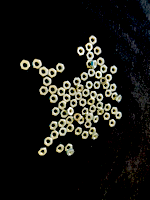nut: (19, 60, 30, 71), (55, 63, 65, 74), (32, 59, 42, 70), (38, 86, 49, 96), (37, 147, 48, 157), (38, 67, 49, 77), (42, 77, 52, 87), (49, 94, 59, 104), (51, 107, 60, 117), (49, 85, 58, 95), (43, 137, 53, 146), (77, 47, 86, 56), (80, 72, 89, 81), (63, 81, 72, 90), (79, 99, 88, 108), (59, 128, 68, 137), (56, 144, 65, 153), (48, 69, 57, 78), (86, 52, 95, 61), (85, 81, 94, 90), (64, 144, 73, 153), (57, 88, 66, 97), (62, 94, 71, 103), (58, 101, 67, 110), (99, 77, 108, 86), (65, 116, 74, 125), (50, 131, 59, 140), (94, 46, 102, 56), (50, 121, 58, 131), (69, 87, 77, 97), (88, 68, 96, 78), (89, 36, 97, 45), (90, 91, 98, 100), (110, 84, 118, 93), (70, 99, 78, 108), (75, 127, 83, 136), (84, 121, 93, 129), (74, 113, 82, 122), (85, 43, 93, 52), (95, 71, 103, 80), (66, 149, 75, 157), (73, 77, 81, 86), (58, 120, 67, 128), (82, 89, 90, 98), (89, 127, 97, 136), (109, 120, 117, 128), (96, 102, 104, 110), (110, 66, 118, 74), (97, 58, 105, 66), (60, 110, 68, 118), (105, 74, 113, 82), (115, 112, 123, 120), (104, 104, 112, 112), (103, 113, 111, 121), (76, 85, 84, 93), (81, 108, 89, 116), (94, 81, 101, 90), (97, 94, 104, 102), (101, 65, 108, 73), (103, 82, 110, 90), (105, 90, 112, 98), (97, 109, 105, 116), (90, 105, 97, 113), (88, 98, 95, 106), (91, 133, 99, 140), (82, 132, 89, 140), (86, 114, 94, 121), (78, 117, 85, 125), (68, 107, 74, 116), (86, 60, 92, 69), (75, 93, 82, 100), (112, 107, 118, 115), (116, 95, 122, 103), (112, 93, 118, 101), (93, 116, 99, 124), (92, 60, 97, 69)
